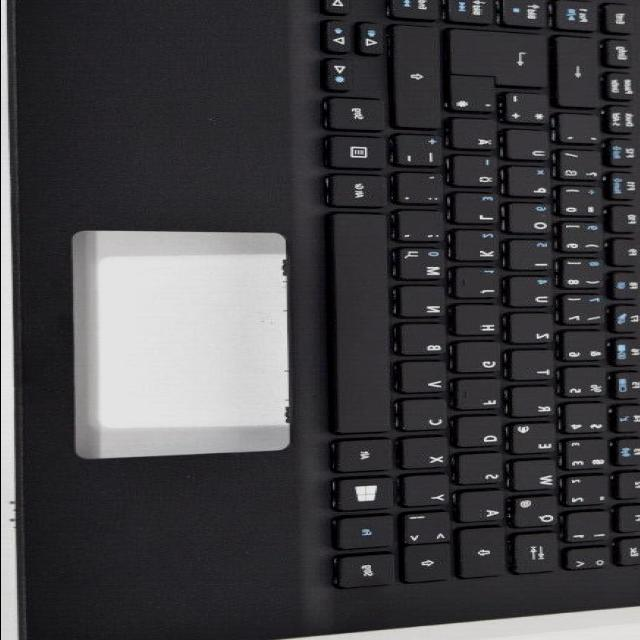0: (558, 186, 602, 218)
1: (564, 513, 612, 545)
2: (562, 476, 609, 508)
3: (564, 440, 611, 472)
4: (562, 404, 609, 436)
5: (562, 368, 606, 400)
6: (562, 332, 606, 364)
7: (561, 295, 607, 328)
8: (561, 259, 605, 291)
9: (559, 222, 605, 255)
a: (458, 492, 505, 525)
accent: (557, 114, 604, 146)
ae: (450, 119, 498, 153)
alt-left: (333, 439, 395, 475)
altgr-right: (328, 176, 391, 210)
b: (398, 324, 448, 358)
c: (398, 400, 450, 434)
caret: (567, 549, 611, 573)
comma: (395, 212, 447, 245)
d: (456, 417, 504, 450)
del: (557, 37, 601, 111)
e: (511, 424, 559, 457)
enter: (450, 30, 548, 84)
f: (456, 380, 504, 413)
g: (454, 343, 502, 376)
h: (454, 305, 501, 339)
hash: (450, 78, 498, 114)
i: (507, 240, 555, 274)
j: (453, 268, 501, 301)
k: (453, 232, 501, 264)
keyboard: (301, 0, 640, 602)
l: (451, 194, 499, 227)
less: (402, 512, 452, 545)
m: (397, 248, 447, 282)
minus: (392, 134, 442, 169)
n: (397, 287, 447, 321)
o: (506, 204, 552, 236)
oe: (451, 156, 498, 189)
p: (505, 167, 552, 200)
plus: (503, 93, 549, 127)
point: (395, 173, 443, 207)
q: (514, 496, 558, 530)
r: (511, 388, 558, 420)
s: (458, 454, 504, 487)
shift-left: (404, 545, 452, 585)
shift-lock: (460, 529, 507, 581)
shift-right: (392, 25, 444, 132)
space: (334, 211, 392, 437)
ss: (558, 151, 604, 183)
strg-left: (336, 554, 396, 590)
strg-right: (323, 97, 387, 133)
t: (511, 351, 555, 383)
tab: (514, 534, 560, 576)
u: (507, 277, 555, 310)
ue: (505, 130, 552, 163)
v: (398, 362, 448, 395)
w: (513, 460, 560, 492)
x: (399, 438, 449, 472)
y: (402, 475, 452, 509)
z: (509, 314, 555, 347)
